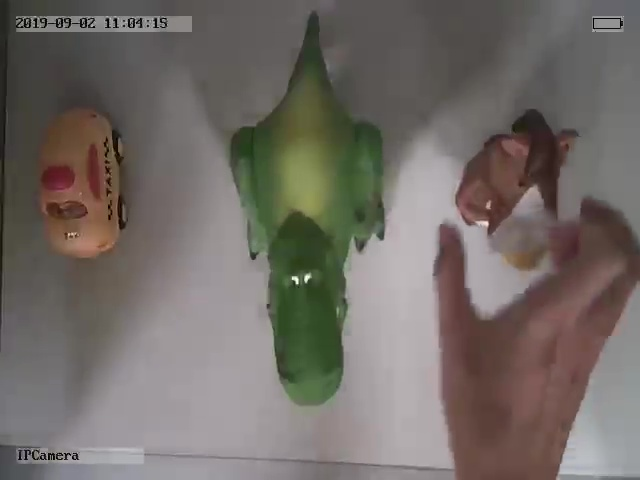car: (36, 106, 131, 256)
rex: (229, 14, 386, 406)
